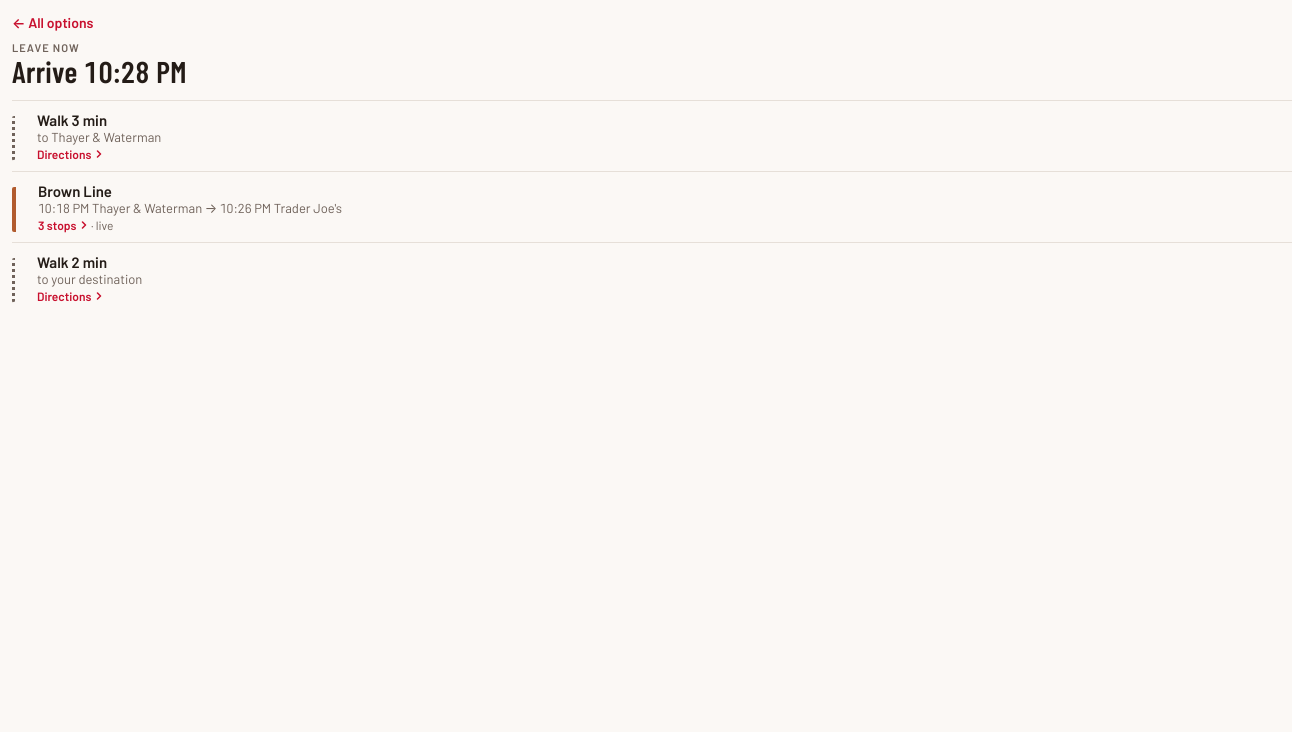
Test case: ItineraryDetail walking directions › lists the maneuvers in walking order once expanded
Click the button "Directions" next to "to Thayer & Waterman" at point(70, 154), box [31,142,109,166]
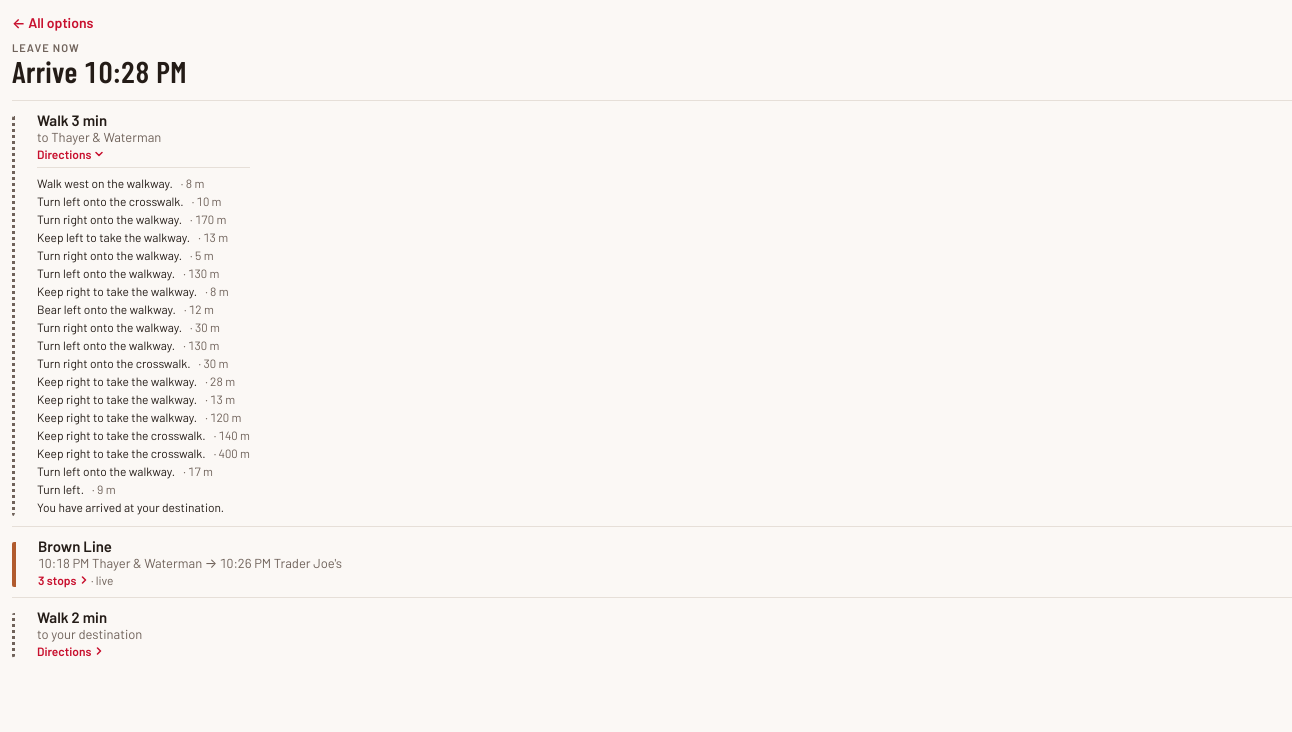
Now the button "Directions" next to "to Thayer & Waterman" is expanded, box [31,142,109,166]
